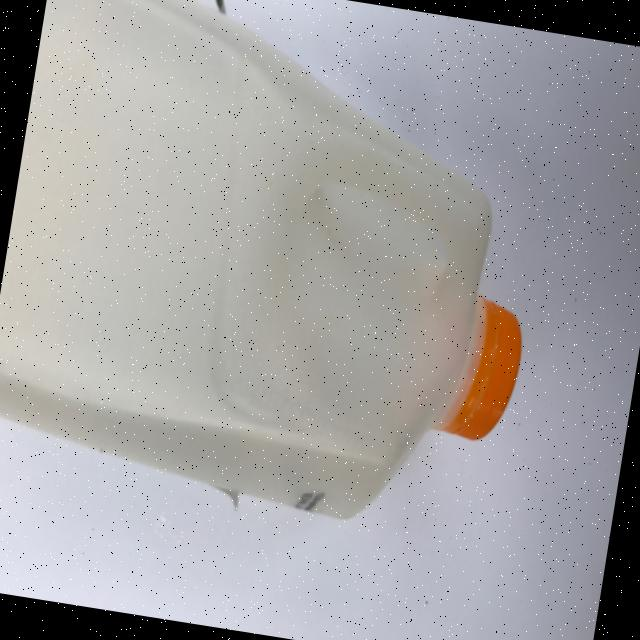plastic: (0, 0, 571, 548)
